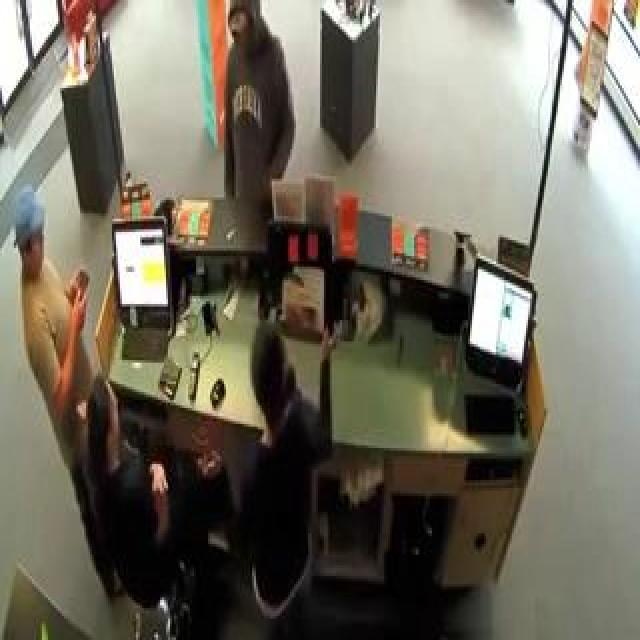high_con: (218, 0, 264, 53)
low_con: (9, 187, 57, 288)
no_con: (246, 320, 296, 440), (84, 375, 125, 478)
